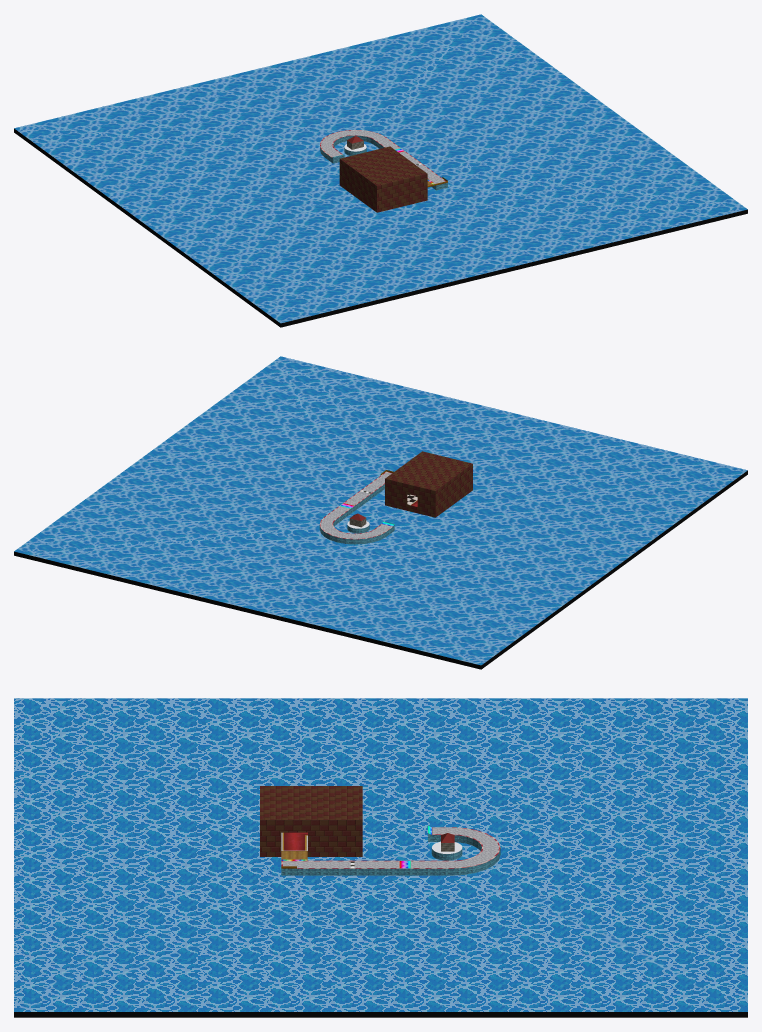
3 renders of one model, top to bottom at view 1: azimuth 30°, elevation 25°; view 2: azimuth 150°, elevation 25°; view 3: azimuth 270°, elevation 25°, orthographic. The views are drawn at different scales.
Visible parts, largest first — view 1: Candy_Cane_Circuit_SKP__mat2.001, Candy_Cane_Circuit_SKP__Material1.001, Candy_Cane_Circuit_SKP__mat1.001, Candy_Cane_Circuit_SKP__Material8.001, Candy_Cane_Circuit_SKP__Material3.001; view 2: Candy_Cane_Circuit_SKP__mat2.001, Candy_Cane_Circuit_SKP__Material1.001, Candy_Cane_Circuit_SKP__mat1.001, Candy_Cane_Circuit_SKP__Material8.001, Candy_Cane_Circuit_SKP__Material3.001; view 3: Candy_Cane_Circuit_SKP__mat2.001, Candy_Cane_Circuit_SKP__Material1.001, Candy_Cane_Circuit_SKP__mat1.001, Candy_Cane_Circuit_SKP__Material3.001, Candy_Cane_Circuit_SKP__Material8.001, Candy_Cane_Circuit_SKP__mat4.001.
Boxes of the visible parts, box(x1,y1,x2,y2) form: Candy_Cane_Circuit_SKP__mat2.001: box(14, 14, 747, 323); Candy_Cane_Circuit_SKP__Material1.001: box(339, 146, 427, 212); Candy_Cane_Circuit_SKP__mat1.001: box(14, 128, 747, 327); Candy_Cane_Circuit_SKP__Material8.001: box(321, 130, 444, 183); Candy_Cane_Circuit_SKP__Material3.001: box(320, 135, 447, 190); Candy_Cane_Circuit_SKP__mat2.001: box(14, 356, 747, 665); Candy_Cane_Circuit_SKP__Material1.001: box(385, 451, 472, 517); Candy_Cane_Circuit_SKP__mat1.001: box(14, 470, 747, 669); Candy_Cane_Circuit_SKP__Material8.001: box(320, 472, 391, 538); Candy_Cane_Circuit_SKP__Material3.001: box(319, 484, 394, 544); Candy_Cane_Circuit_SKP__mat2.001: box(14, 698, 747, 1011); Candy_Cane_Circuit_SKP__Material1.001: box(260, 786, 362, 856); Candy_Cane_Circuit_SKP__mat1.001: box(14, 1012, 747, 1017); Candy_Cane_Circuit_SKP__Material3.001: box(281, 833, 500, 875); Candy_Cane_Circuit_SKP__Material8.001: box(283, 827, 498, 868); Candy_Cane_Circuit_SKP__mat4.001: box(281, 827, 500, 868).
Size of the model in its own units: 145959 by 9222 by 144261.
Materials: 20 (19 with a texture image).
